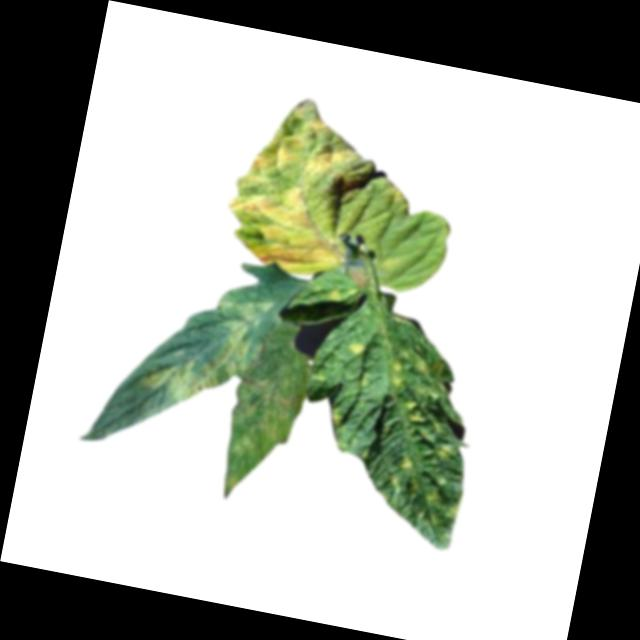Leaf_Mold: (216, 85, 425, 293), (357, 343, 487, 552), (139, 279, 273, 417), (217, 369, 307, 509), (345, 338, 365, 358), (324, 287, 342, 305)
